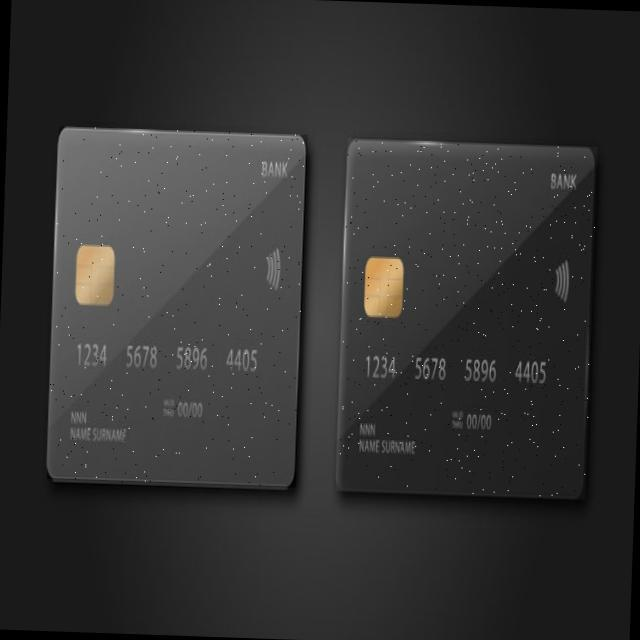payment_card: (334, 136, 596, 501), (45, 125, 306, 491)
